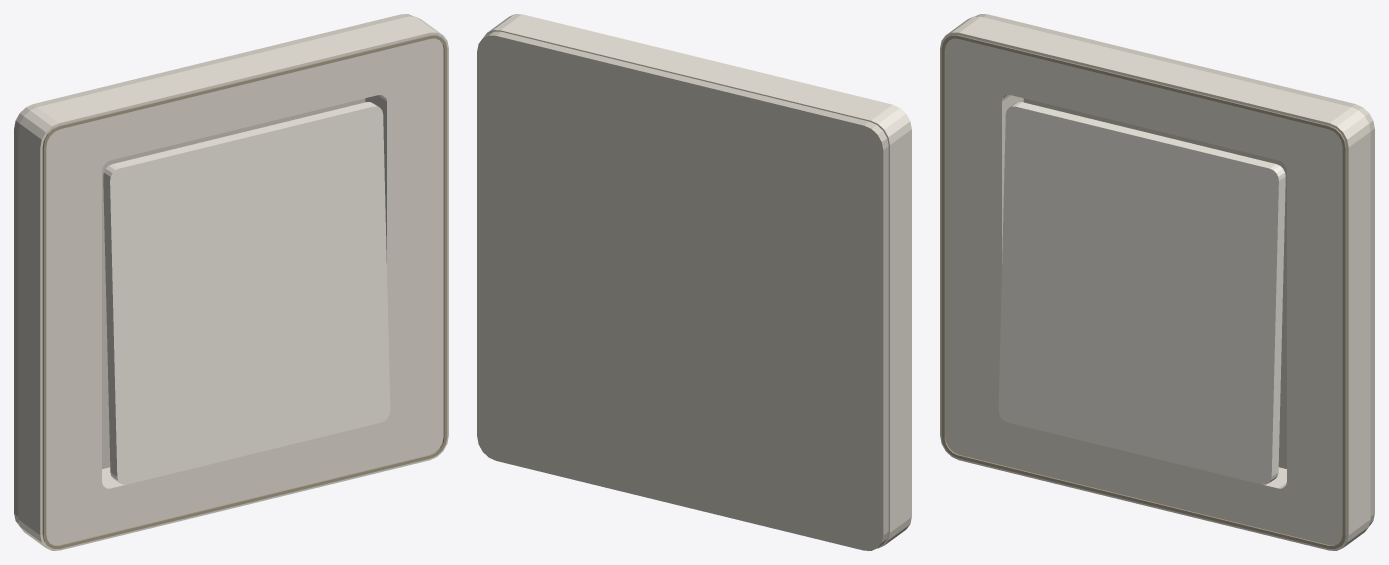
Rendered from wall-light-switch-557e75a98a91.glb.
3 views of the same model, side by side, from view 1: azimuth 30°, elevation 25°; view 2: azimuth 150°, elevation 25°; view 3: azimuth 330°, elevation 25° (orthographic).
Parts seen in each view (by area): view 1: matte_faceplate, rocker, fine_metal_rim, rear_mounting_plate; view 2: rear_mounting_plate, matte_faceplate; view 3: matte_faceplate, rocker, fine_metal_rim, rear_mounting_plate.
Part boxes in pixels (x1,y1,x2,y2): matte_faceplate: [18, 16, 448, 550]; rocker: [103, 102, 390, 484]; fine_metal_rim: [42, 35, 447, 548]; rear_mounting_plate: [14, 14, 413, 525]; rear_mounting_plate: [477, 31, 888, 550]; matte_faceplate: [483, 14, 911, 548]; matte_faceplate: [940, 16, 1370, 550]; rocker: [998, 102, 1285, 484]; fine_metal_rim: [941, 35, 1346, 548]; rear_mounting_plate: [975, 14, 1374, 525].
Size of the model in its own units: 0.086 by 0.086 by 0.0135.
